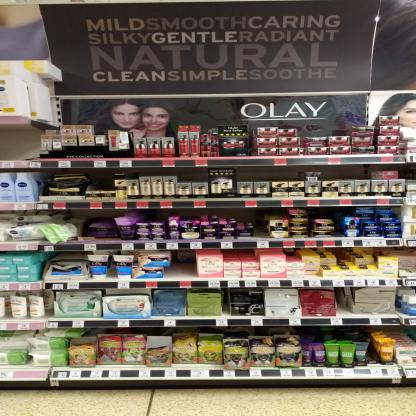Void: (238, 168, 302, 180), (324, 166, 368, 180), (174, 251, 194, 277), (178, 168, 209, 181), (336, 286, 350, 314), (87, 170, 110, 186), (254, 210, 266, 237), (220, 250, 253, 258), (315, 209, 330, 217)
